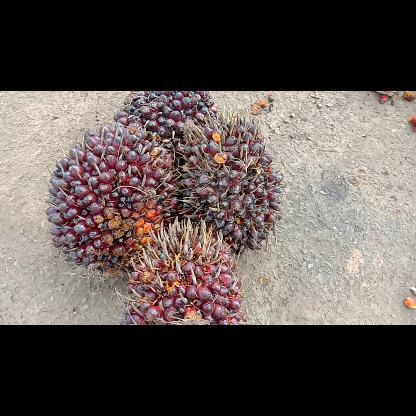Kurang masak: (172, 111, 288, 257), (117, 212, 251, 324), (112, 91, 223, 157)
TBS masak: (43, 118, 183, 282)
